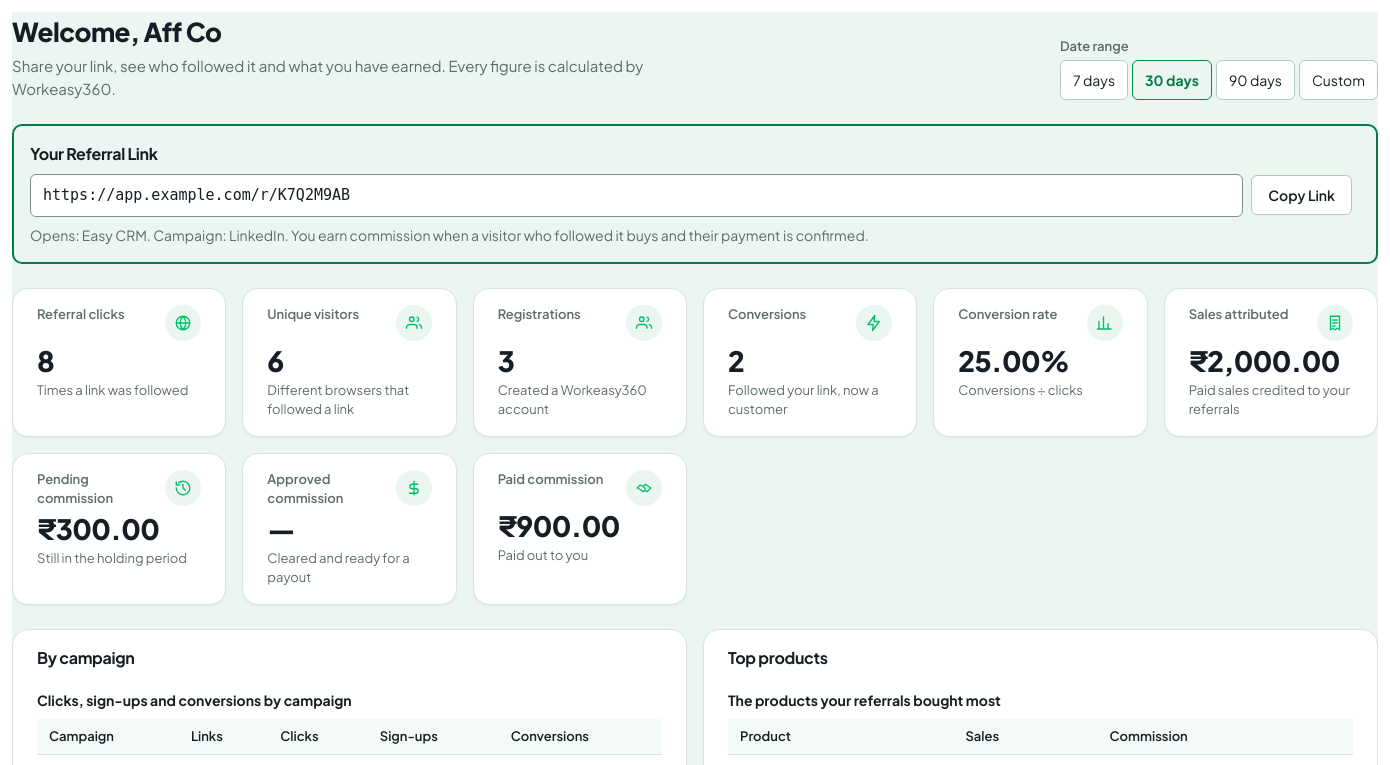
the affiliate dashboard › says when the clipboard refuses, instead of pretending
Click the button "Copy Link": x=1302, y=195 [1251,175,1352,215]
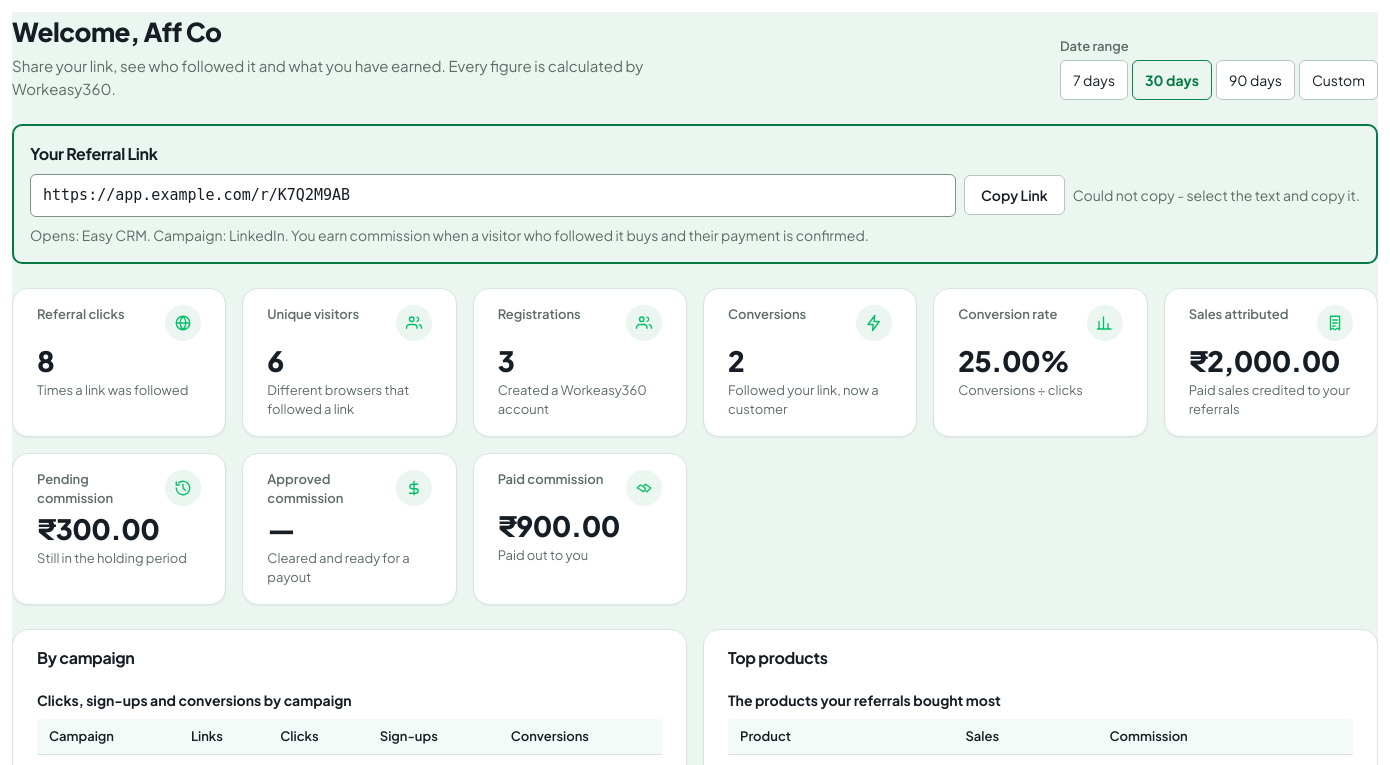
Expected: the text "Could not copy - select the text and copy it." is shown, [1073,185,1360,206]
